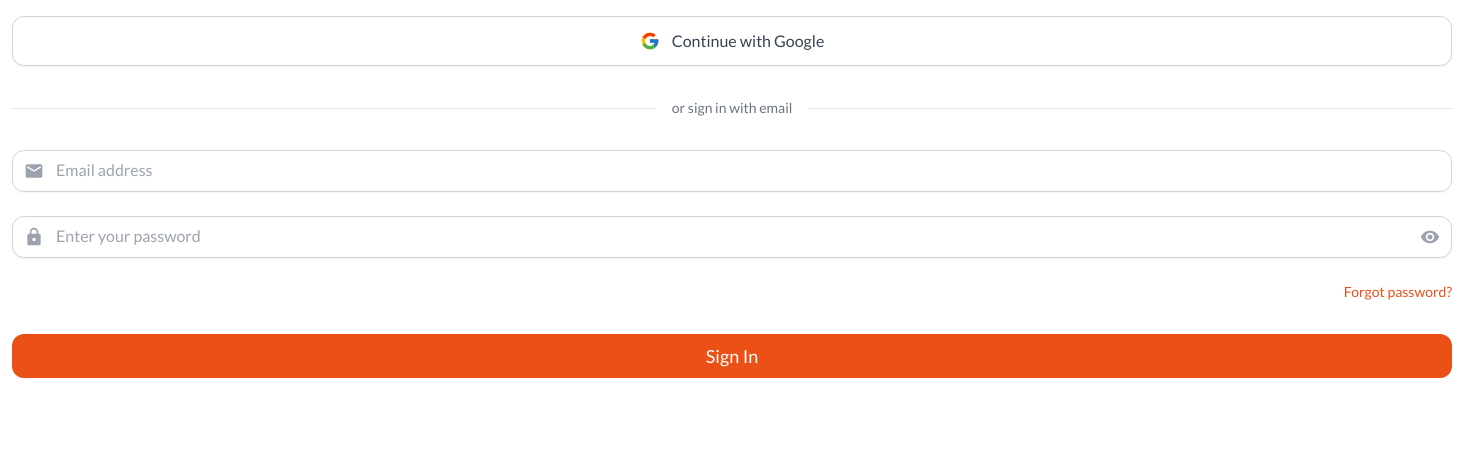
it: LoginForm › shows email error message on invalid email
The image size is (1464, 454).
Type "invalid-email" into the field labelled "Email address" at (732, 171), box [12,150,1452,192]
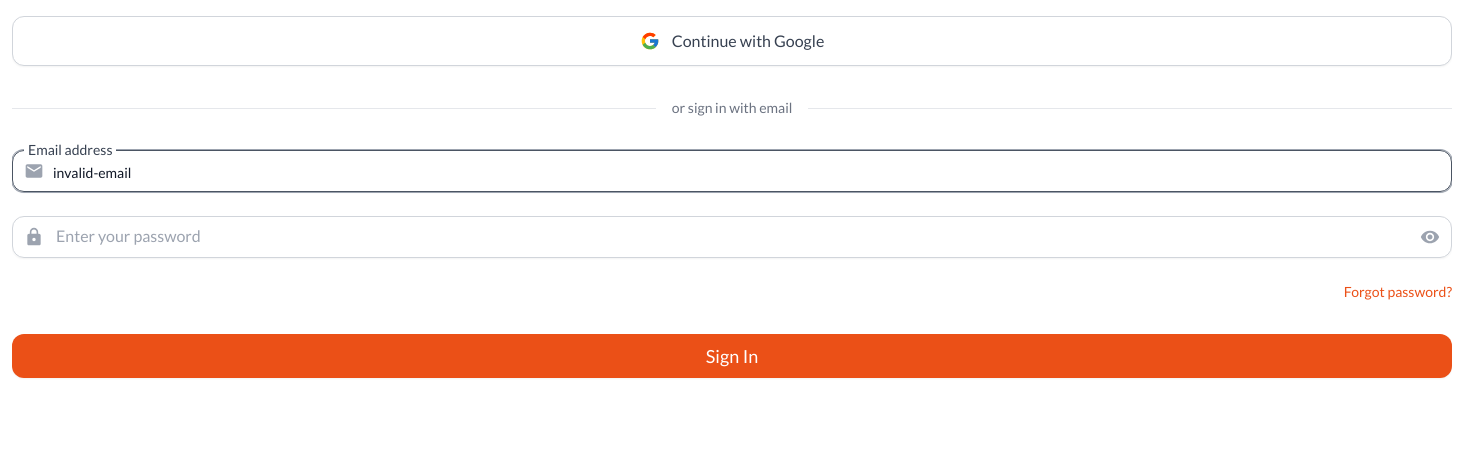
Click the button "Sign In" at (732, 356), box [12,334,1452,378]
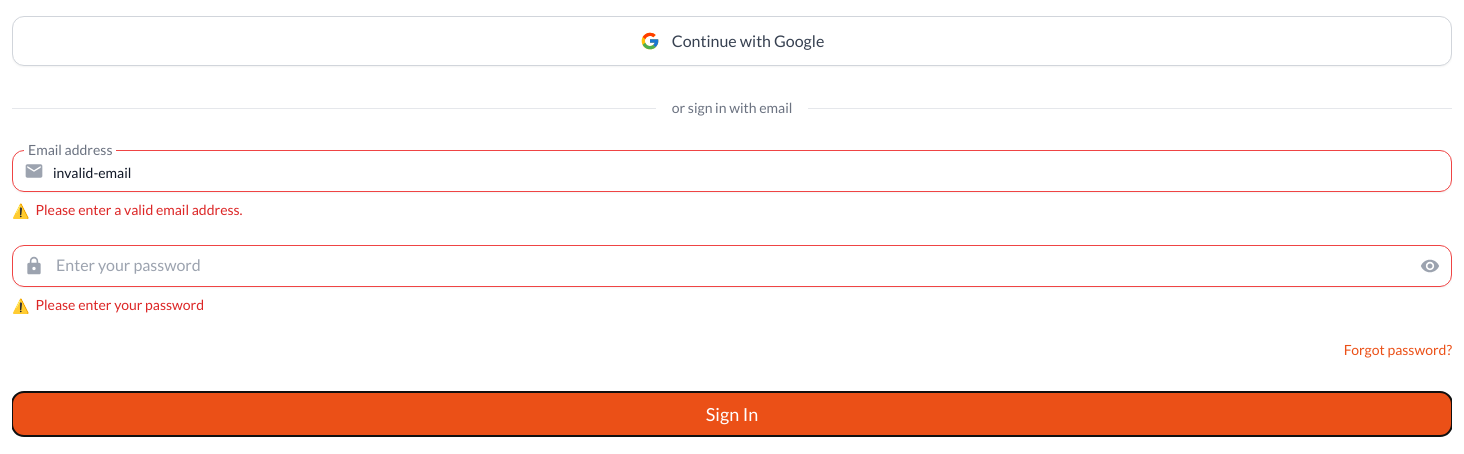
Check: the text "Please enter a valid email address." is shown, box [36,201,243,218]
